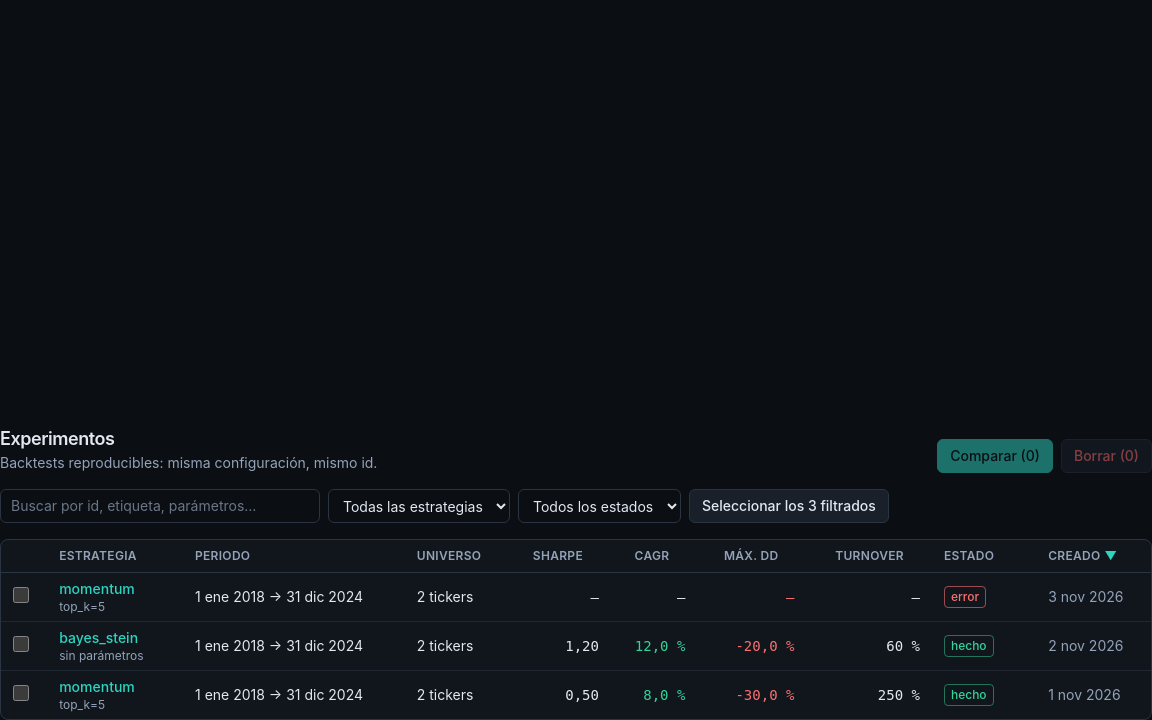
Experimentos › solo compara experimentos terminados y navega con los ids elegidos
(page scrolled)
expect the table named "Experimentos" is shown: met, box [1,540,1151,719]
expect the button "Comparar (0)" is disabled: met, box [937,439,1053,473]
Click the checkbox named "Seleccionar momentum-1" at (21, 692), box [13,684,29,700]
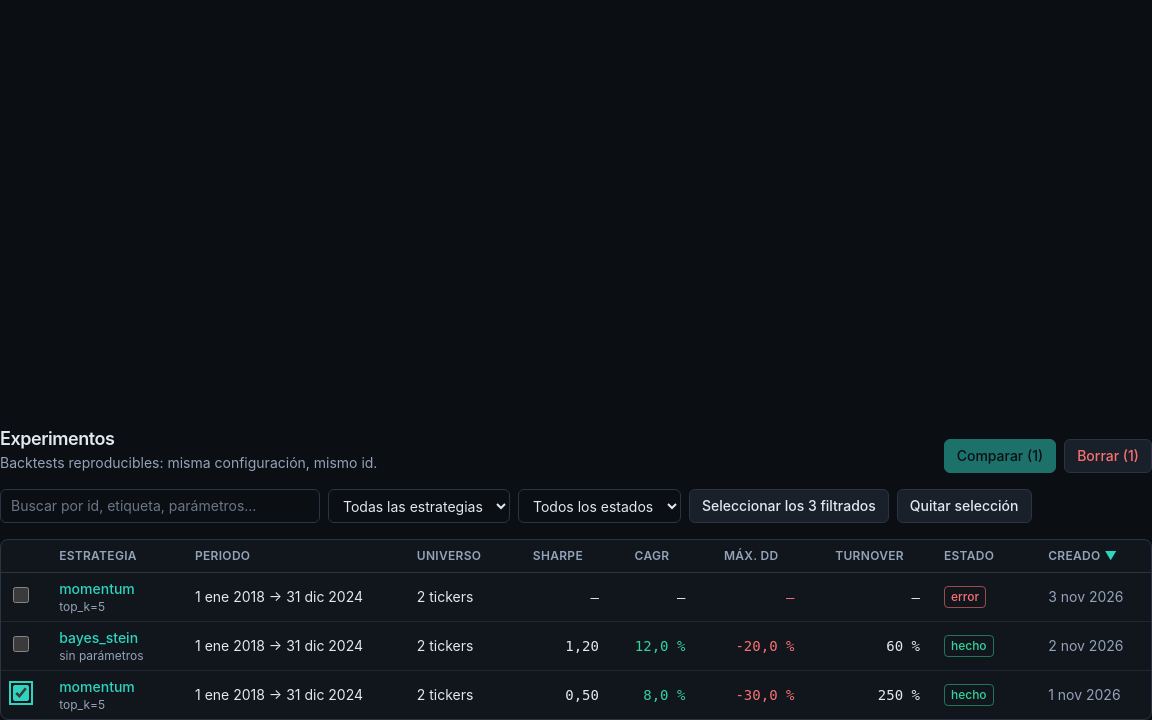
Click the checkbox named "Seleccionar momentum-3" at (21, 594), box [13,586,29,602]
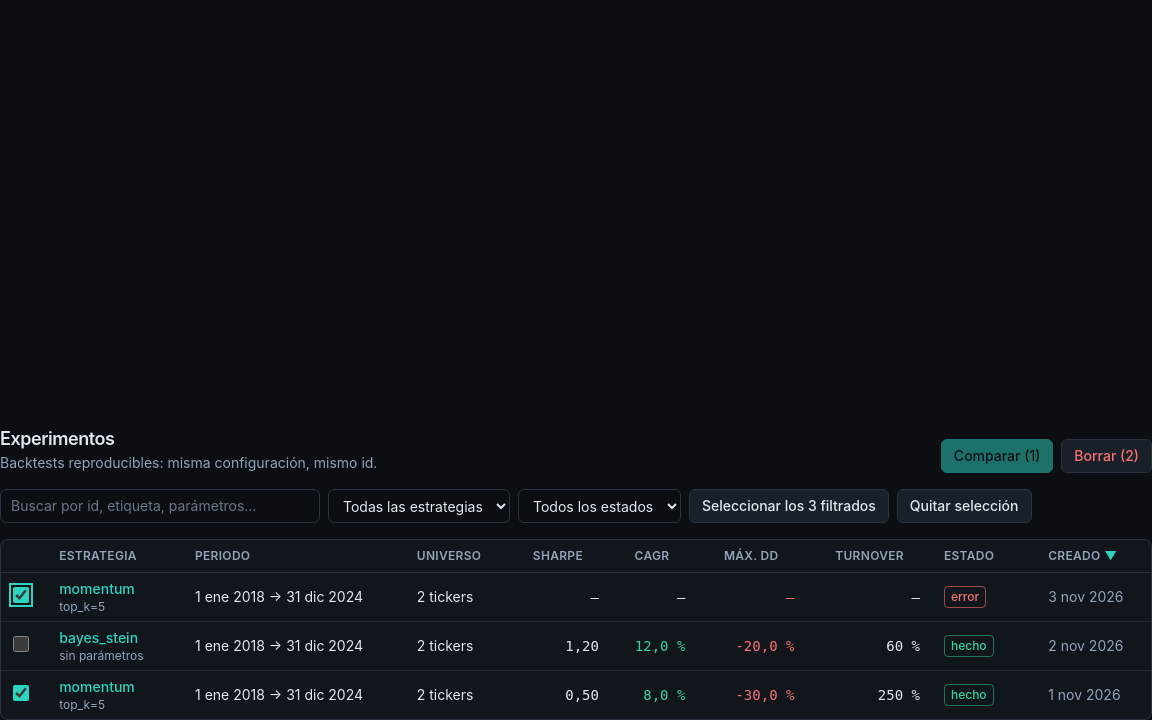
expect the button "Comparar (1)" is disabled: met, box [941,439,1053,473]
Click the checkbox named "Seleccionar bayes_stein-2" at (21, 644), box [13,636,29,652]
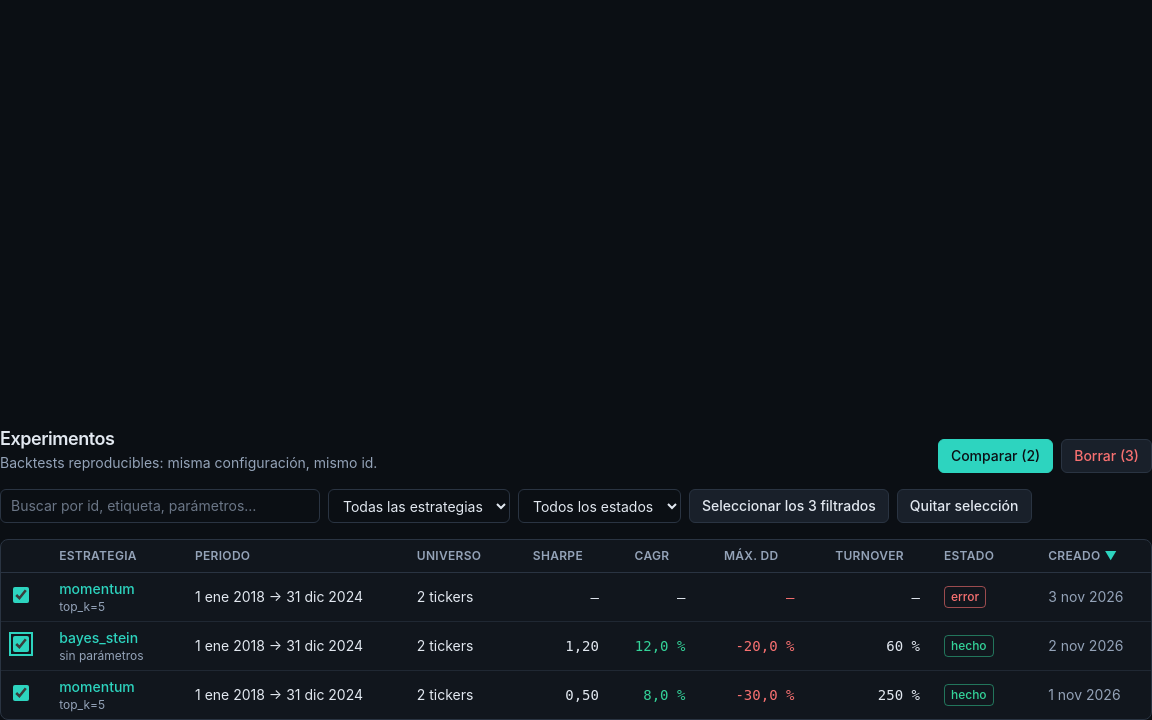
expect the button "Comparar (2)" is shown: met
Click the button "Comparar (2)" at (996, 456), box [938,439,1053,473]
(page scrolled)
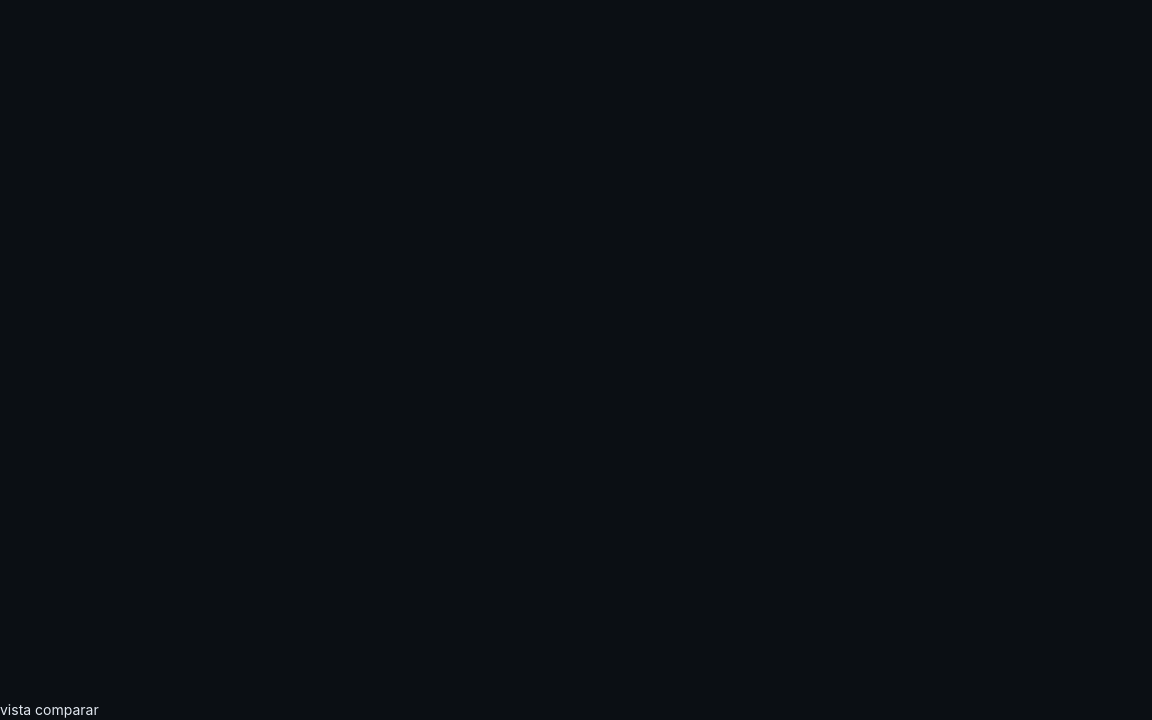
expect the text "vista comparar" is shown: met, box [0,701,99,718]
